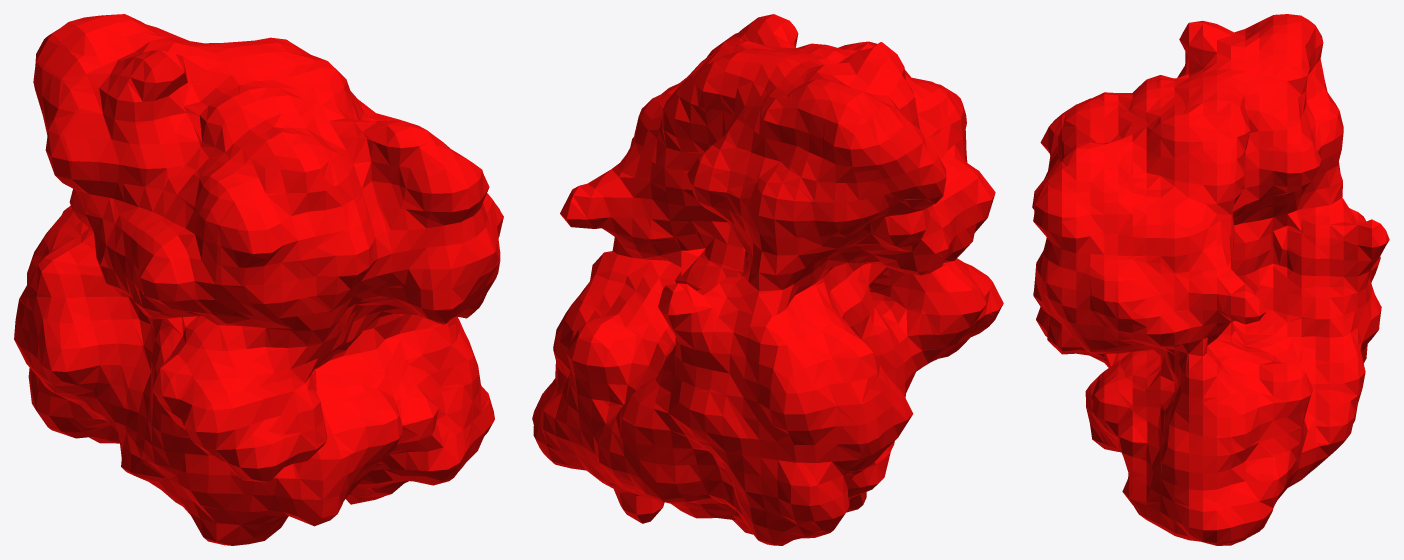
File: Sulfated_glycoprotein_1_coarse.dae
3 views of the same model, side by side, from view 1: azimuth 30°, elevation 25°; view 2: azimuth 150°, elevation 25°; view 3: azimuth 270°, elevation 25° (orthographic). The views are drawn at different scales.
Visible parts, largest first — view 1: Sulfated_glycoprotein_1; view 2: Sulfated_glycoprotein_1; view 3: Sulfated_glycoprotein_1.
Part boxes in pixels (x1,y1,x2,y2): Sulfated_glycoprotein_1: (14, 14, 503, 545); Sulfated_glycoprotein_1: (532, 14, 1003, 545); Sulfated_glycoprotein_1: (1032, 14, 1389, 545).
Size of the model in its own units: 94.24 by 110 by 81.93.
